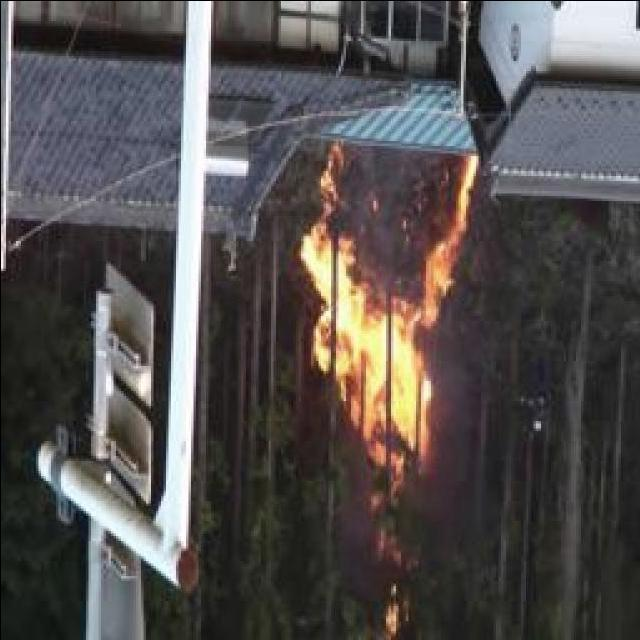Fire: (312, 150, 474, 564)
